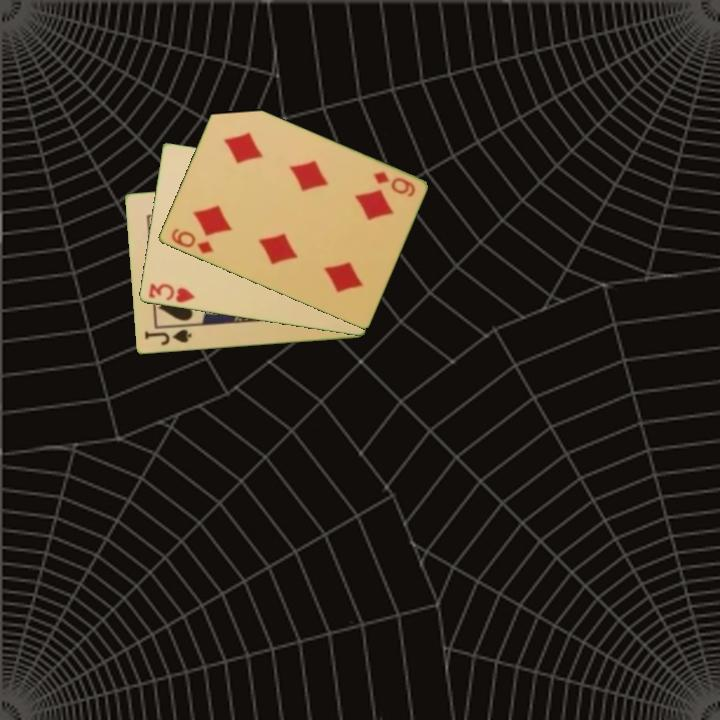3h: (145, 280, 197, 306)
6d: (370, 167, 418, 200), (167, 225, 216, 257)
Js: (141, 326, 194, 348)
